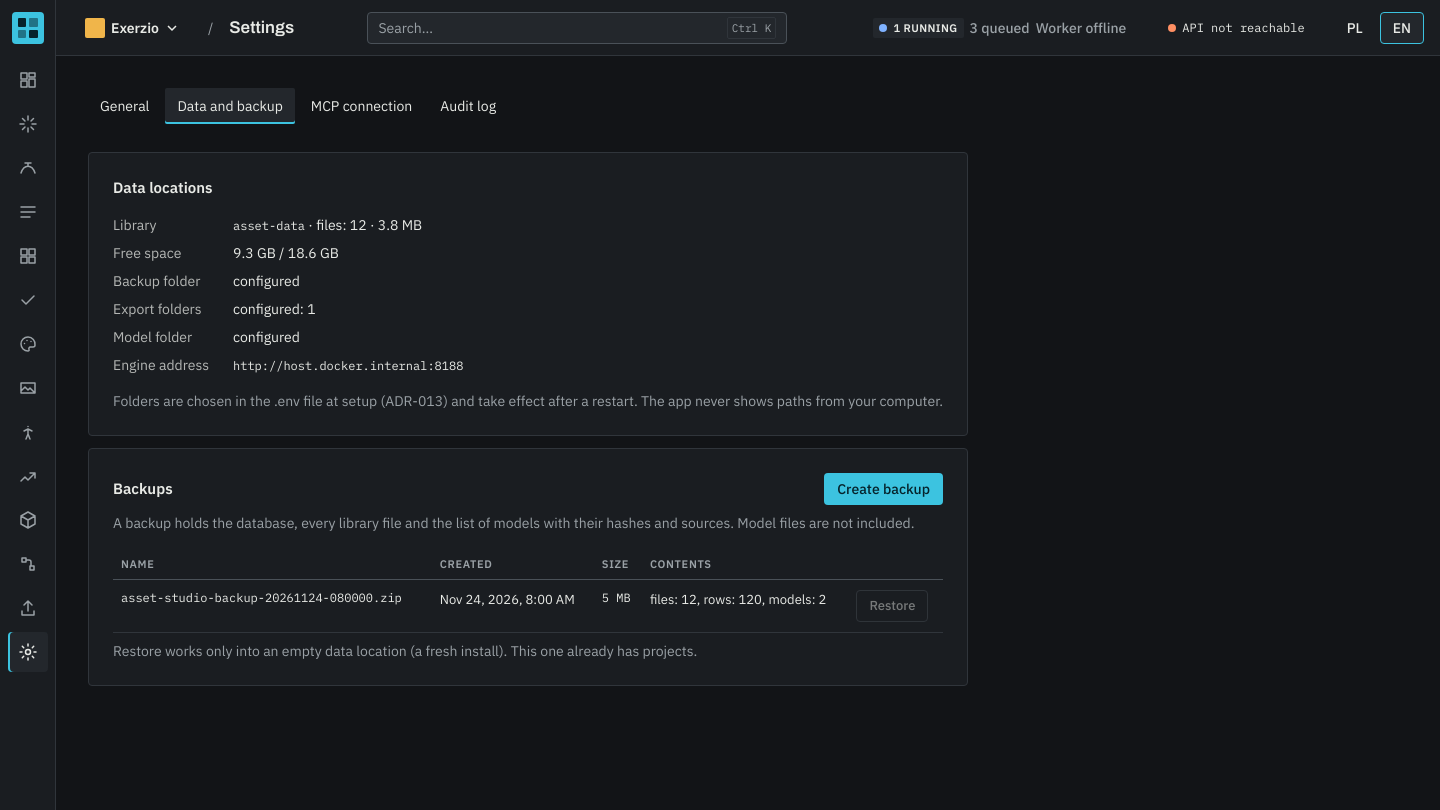
it: Backups (FR-111, FR-112) › creates a backup with an idempotency key and follows its job
Expected: the text "asset-studio-backup-20261124-080000.zip" is shown, [113,580,432,632]
Expected: the text "files: 12, rows: 120, models: 2" is shown, [642,580,848,632]
Click the button "Create backup" at (884, 489), box [824,473,943,505]
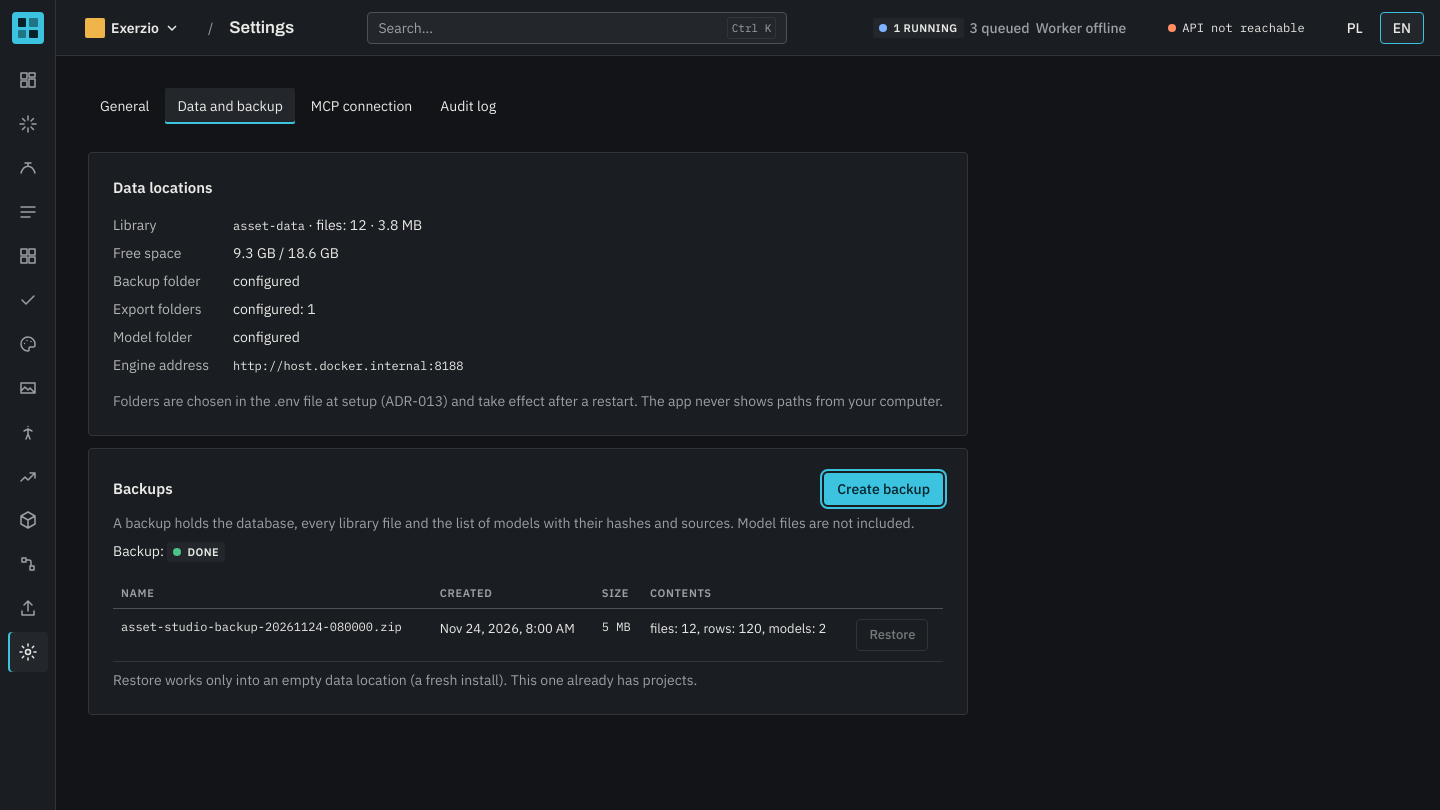
Expected: the text "Done" is shown, [167,542,225,562]
